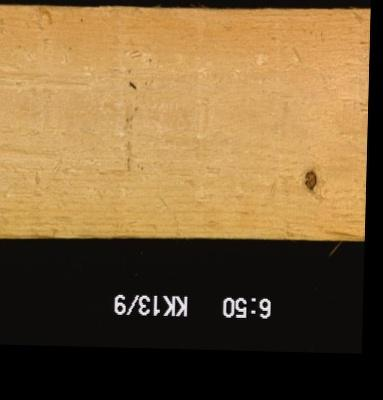dry_knot: (301, 168, 318, 192)
